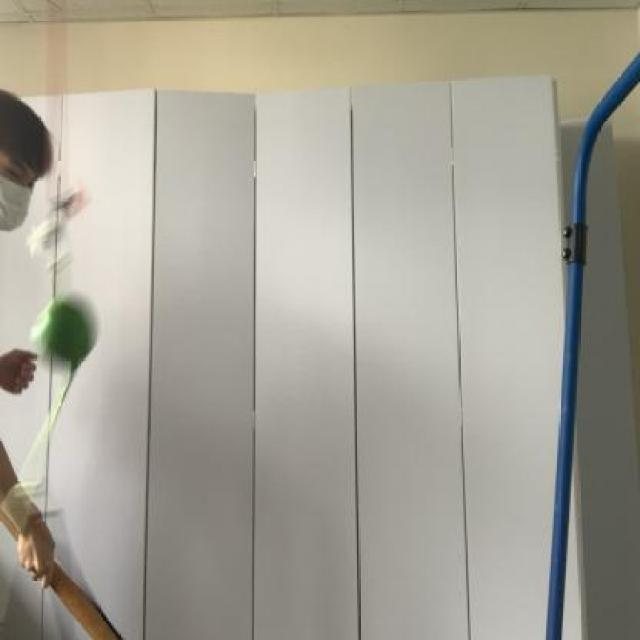baseball: (30, 279, 102, 376)
